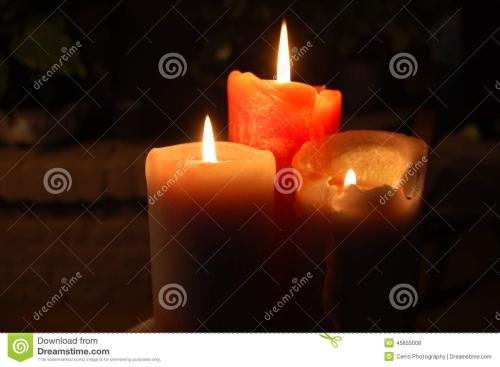Fire: (272, 18, 296, 85), (194, 110, 222, 164), (343, 168, 357, 189)
